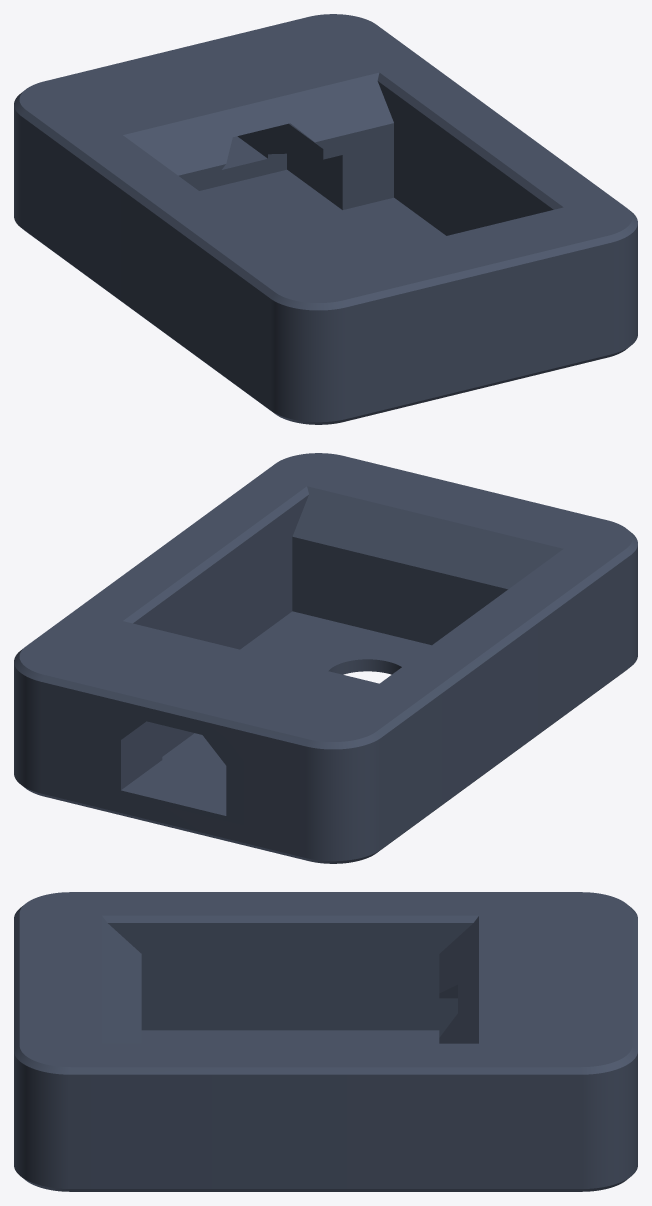
The model's file is lra-sled.glb.
3 renders of one model, top to bottom at view 1: azimuth 30°, elevation 25°; view 2: azimuth 150°, elevation 25°; view 3: azimuth 270°, elevation 25°, orthographic. The views are drawn at different scales.
Visible parts, largest first — view 1: Sled; view 2: Sled; view 3: Sled.
Boxes of the visible parts, x1,y1,x2,y2 form: Sled: (14, 14, 637, 424); Sled: (14, 453, 637, 863); Sled: (14, 892, 637, 1191).
Bounding box in the file's own units: 0.015 × 0.00485 × 0.022.
